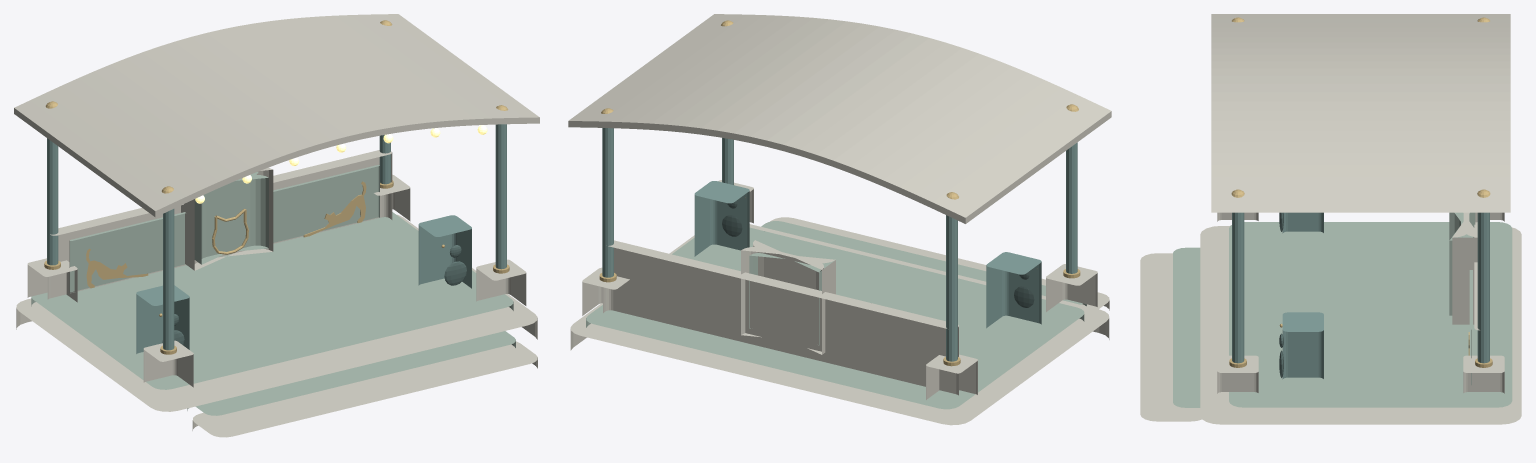
Rendered from komichi-stage-no-microphones.glb.
3 views of the same model, side by side, from view 1: azimuth 30°, elevation 25°; view 2: azimuth 150°, elevation 25°; view 3: azimuth 270°, elevation 25° (orthographic). The views are drawn at different scales.
Parts seen in each view (by area): view 1: Stage_Main; view 2: Stage_Main; view 3: Stage_Main.
Part boxes in pixels (x1,y1,x2,y2): Stage_Main: [14, 14, 539, 437]; Stage_Main: [568, 14, 1111, 425]; Stage_Main: [1140, 14, 1521, 424].
Size of the model in its own units: 4.9 by 3.06 by 3.97.
